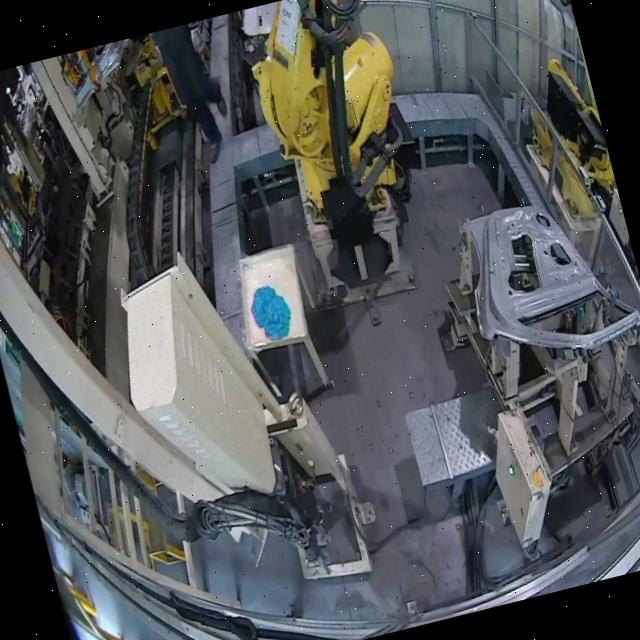Person: (145, 20, 239, 172)
